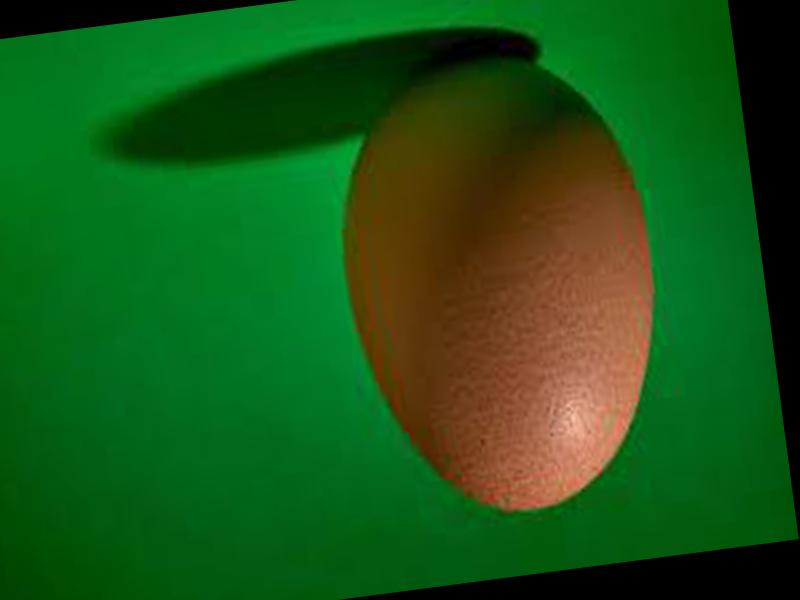Eggs: (320, 35, 682, 527)
